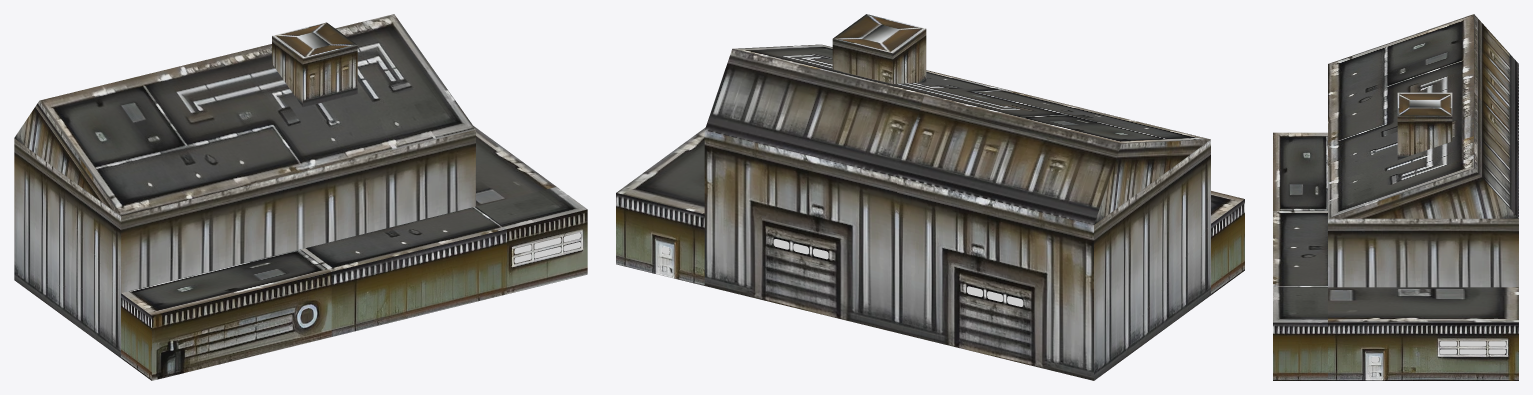
The model's file is factorylg_hdtex.glb.
3 views of the same model, side by side, from view 1: azimuth 30°, elevation 25°; view 2: azimuth 150°, elevation 25°; view 3: azimuth 270°, elevation 25° (orthographic). The views are drawn at different scales.
Parts seen in each view (by area): view 1: Box01, LitWin_FactoryLg; view 2: Box01, LitWin_FactoryLg; view 3: Box01, LitWin_FactoryLg.
Boxes of the visible parts, x1,y1,x2,y2 form: Box01: (14,14,587,380); LitWin_FactoryLg: (514,233,580,263); Box01: (616,14,1244,380); LitWin_FactoryLg: (662,239,1023,306); Box01: (1273,14,1518,380); LitWin_FactoryLg: (1371,341,1505,362).
Bounding box in the file's own units: 29.52 × 14.11 × 16.15.
2 materials, 2 textured.
